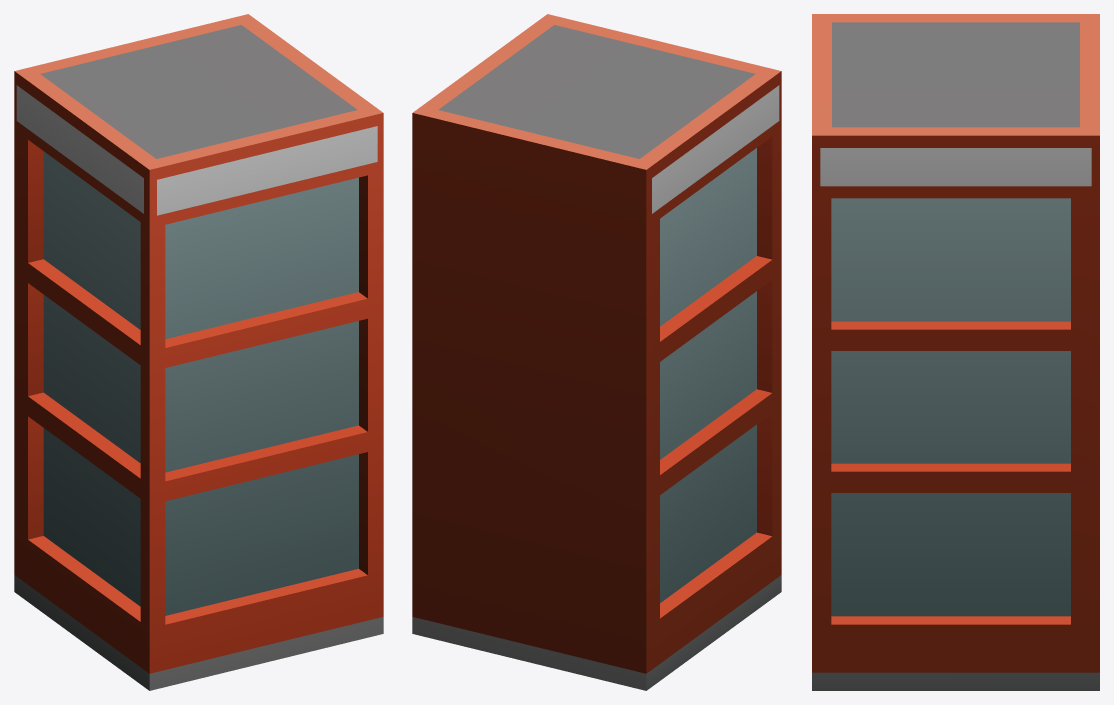
The model's file is Call_Box.fbx.
3 renders of one model, left to right at view 1: azimuth 30°, elevation 25°; view 2: azimuth 150°, elevation 25°; view 3: azimuth 270°, elevation 25°, orthographic. The views are drawn at different scales.
Visible parts, largest first — view 1: Call_Box; view 2: Call_Box; view 3: Call_Box.
Boxes of the visible parts, bbox=[...] form: Call_Box: bbox=[14, 14, 383, 690]; Call_Box: bbox=[412, 14, 781, 690]; Call_Box: bbox=[812, 14, 1099, 690].
Size of the model in its own units: 102 by 215 by 102.
